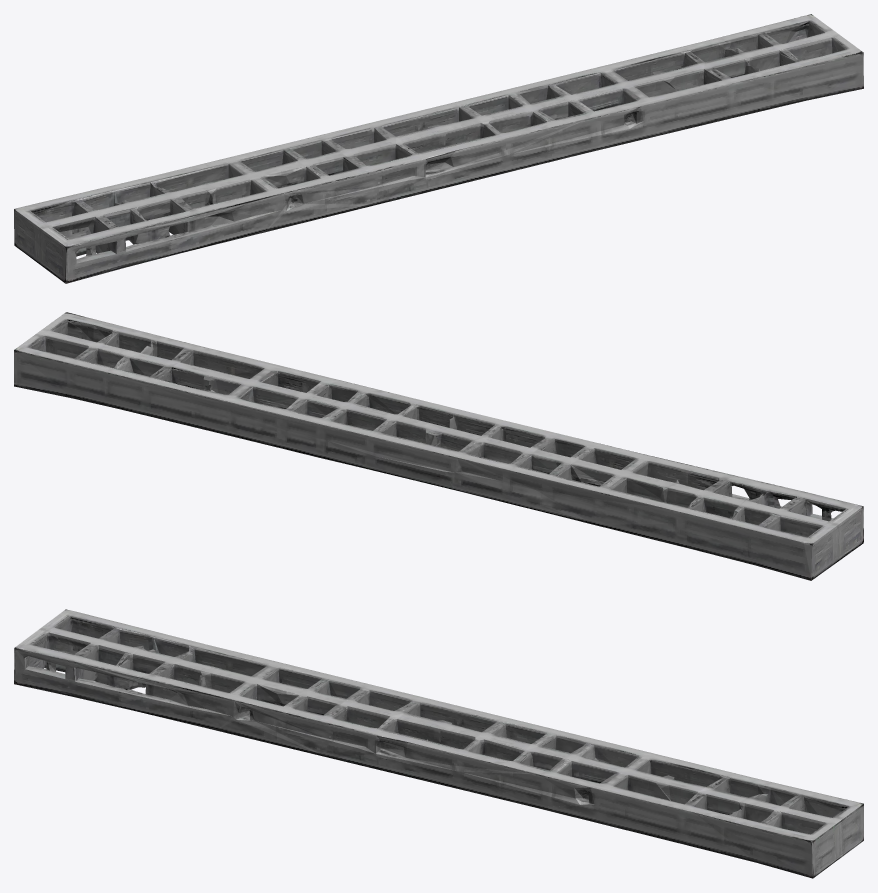
The model's file is grille_vent_strip.glb.
3 views of the same model, one above another, from view 1: azimuth 30°, elevation 25°; view 2: azimuth 150°, elevation 25°; view 3: azimuth 330°, elevation 25° (orthographic).
Parts seen in each view (by area): view 1: geometry_0; view 2: geometry_0; view 3: geometry_0.
Boxes of the visible parts, x1,y1,x2,y2 form: geometry_0: (14,14,863,283); geometry_0: (14,312,863,580); geometry_0: (14,609,863,878).
Size of the model in its own units: 0.9999 by 0.0446 by 0.114.
Materials: 1 (1 with a texture image).
